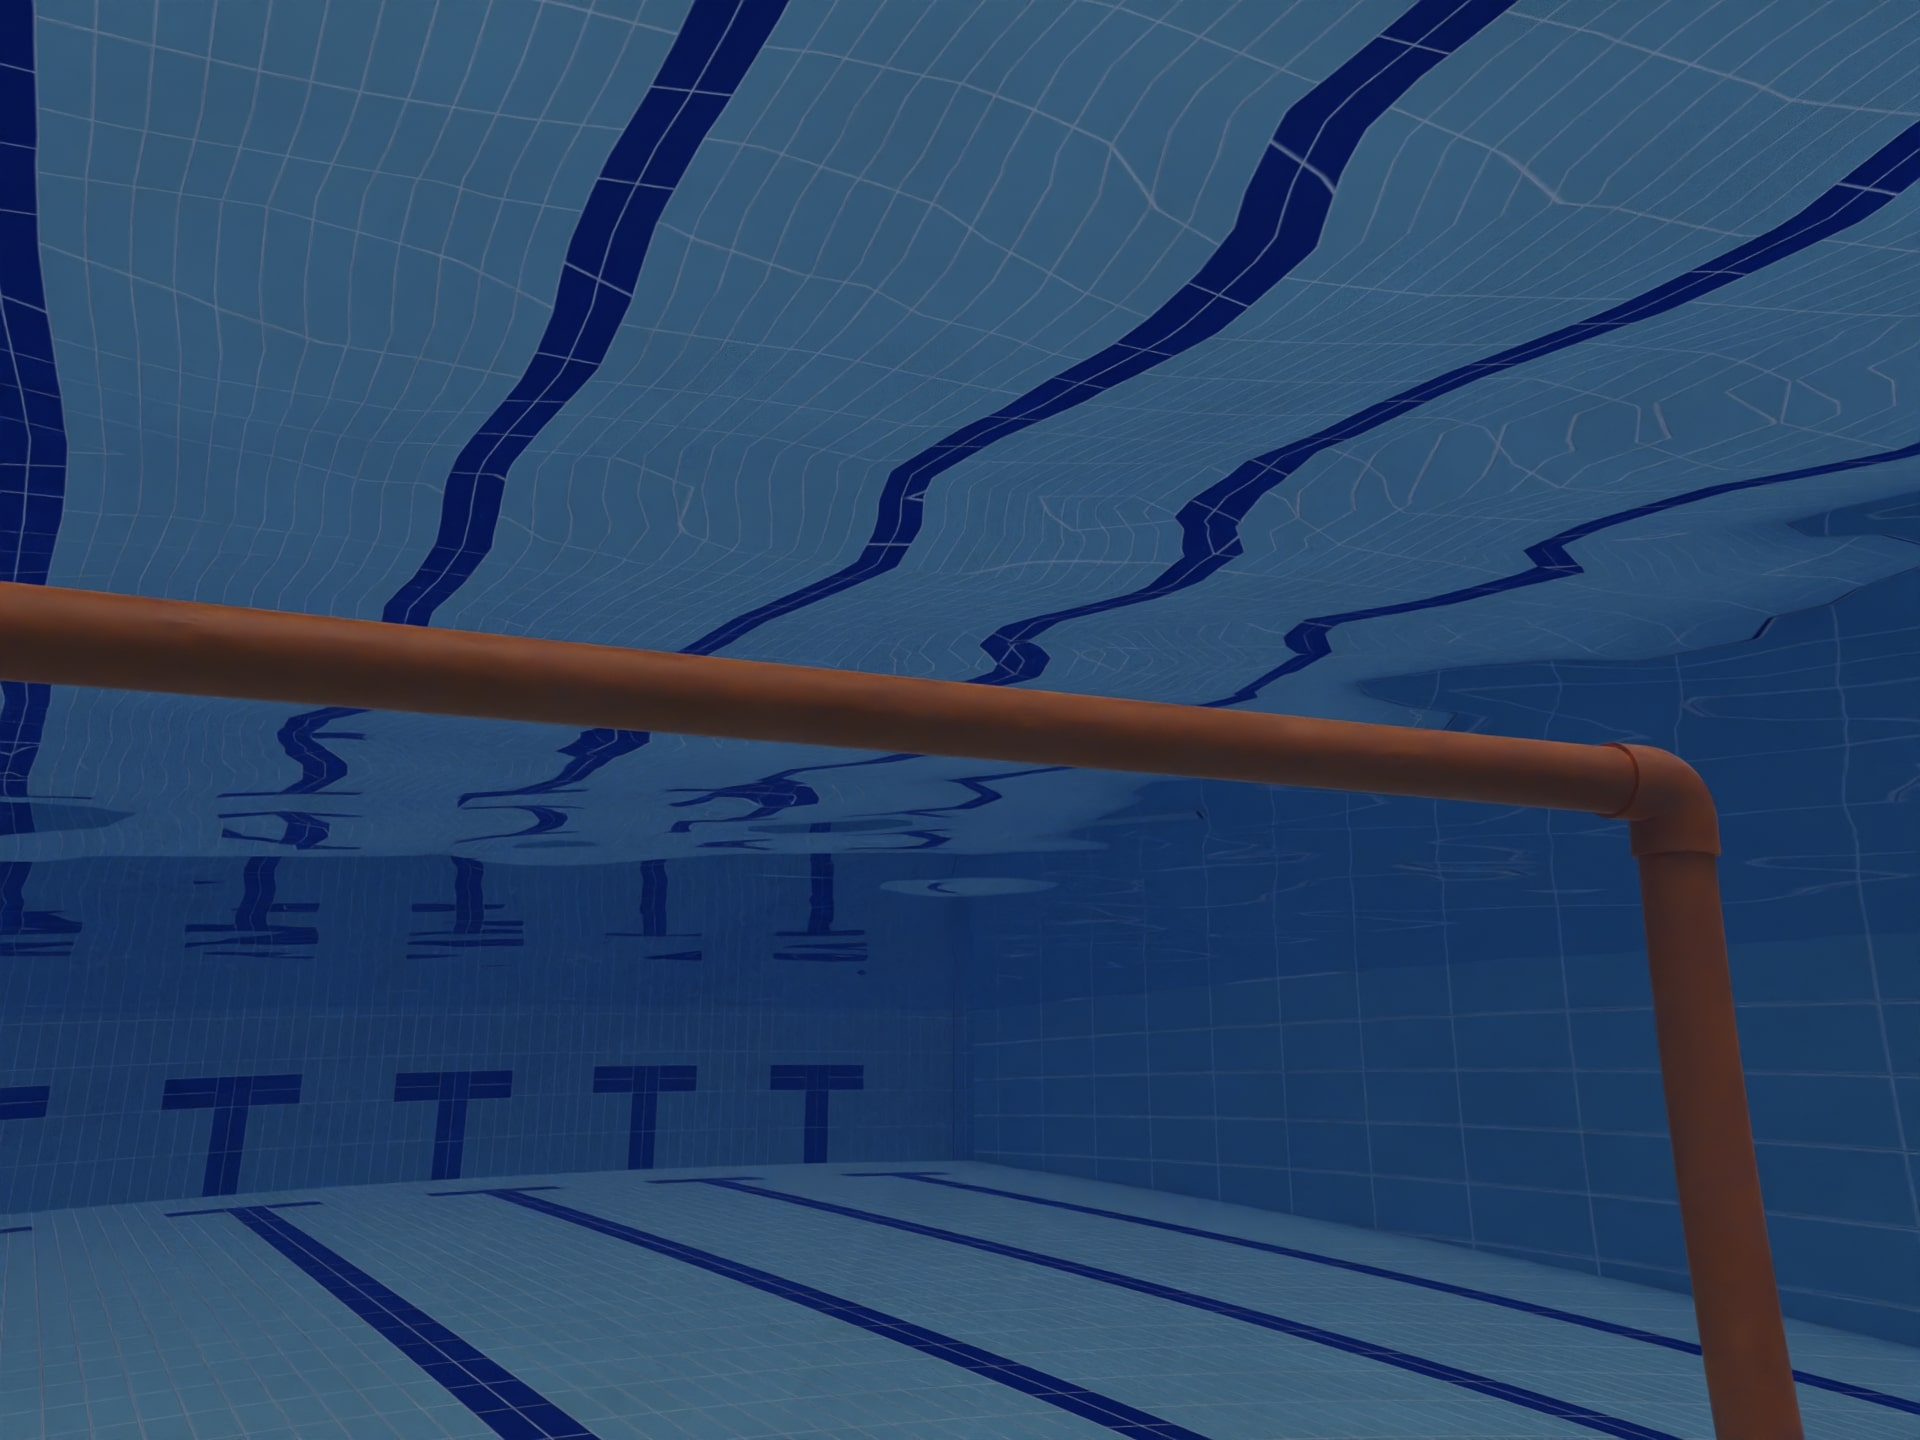gate: (5, 510, 1835, 1440)
